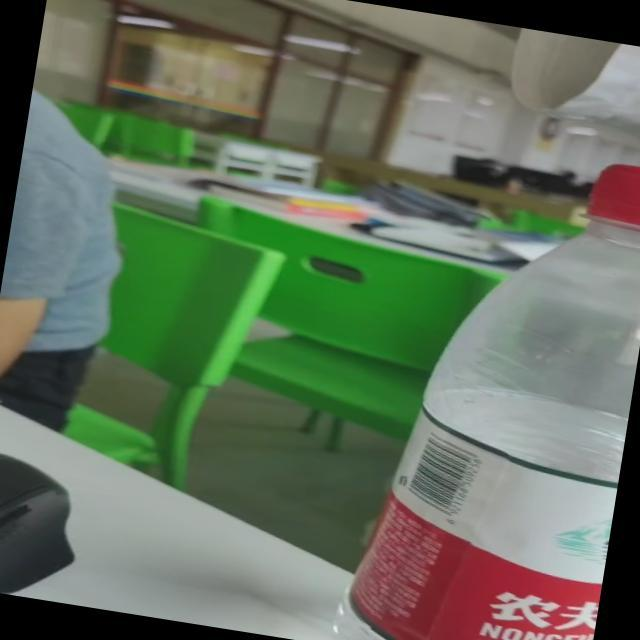good: (325, 121, 640, 640)
